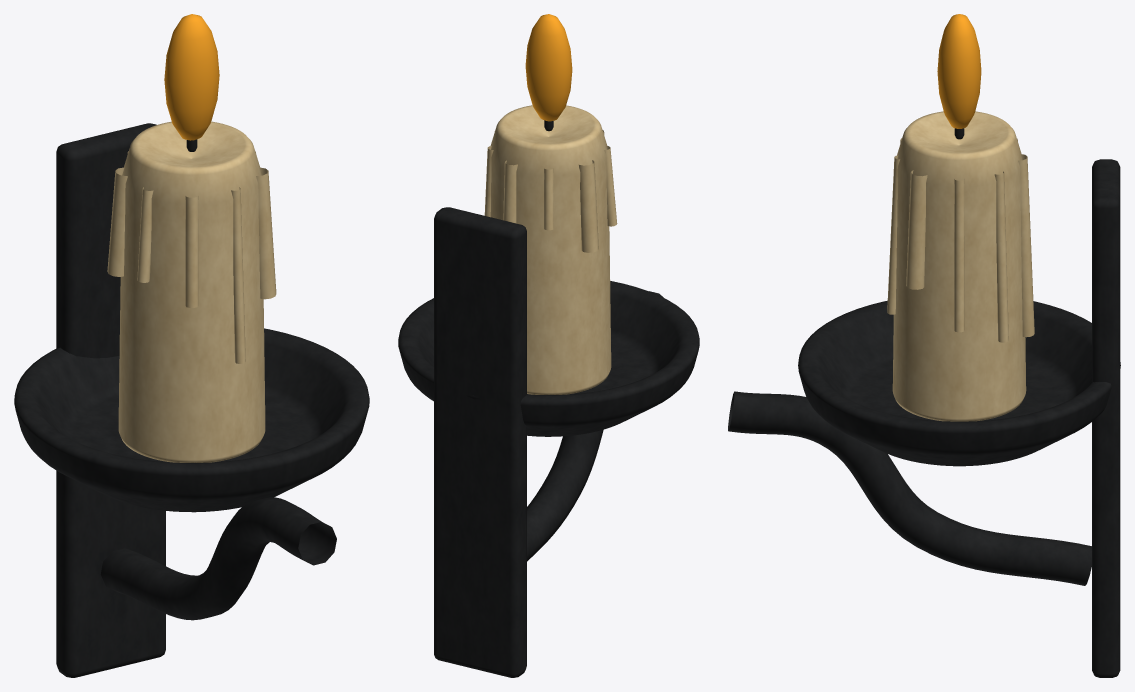
The model's file is tavern-candlestick.glb.
The picture shows the model from 3 angles, left to right: view 1: azimuth 30°, elevation 25°; view 2: azimuth 150°, elevation 25°; view 3: azimuth 270°, elevation 25°; orthographic projection. The views are drawn at different scales.
Visible parts, largest first — view 1: Candlestick | wall mounting plate; view 2: Candlestick | wall mounting plate; view 3: Candlestick | wall mounting plate.
Part boxes in pixels (<box>): Candlestick | wall mounting plate: <box>14,14,369,677</box>; Candlestick | wall mounting plate: <box>398,14,699,677</box>; Candlestick | wall mounting plate: <box>728,14,1120,677</box>.
Bounding box in the file's own units: 0.3961 × 0.873 × 0.482.
Materials: 1 (1 with a texture image).
